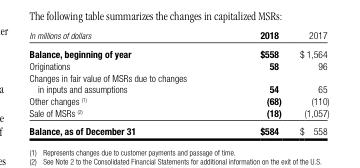table: (28, 29, 328, 136)
table column: (28, 29, 222, 136), (222, 29, 289, 136), (289, 29, 328, 136)
table column header: (28, 29, 328, 44)
table row: (28, 71, 328, 94), (28, 29, 328, 44), (28, 44, 328, 59), (28, 106, 328, 121), (28, 121, 328, 136), (28, 59, 328, 71), (28, 94, 328, 106)
